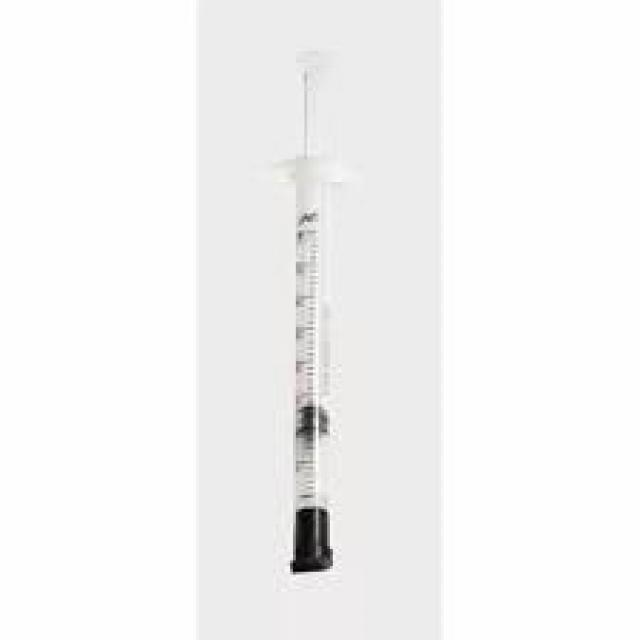syringe: (250, 43, 382, 605)
